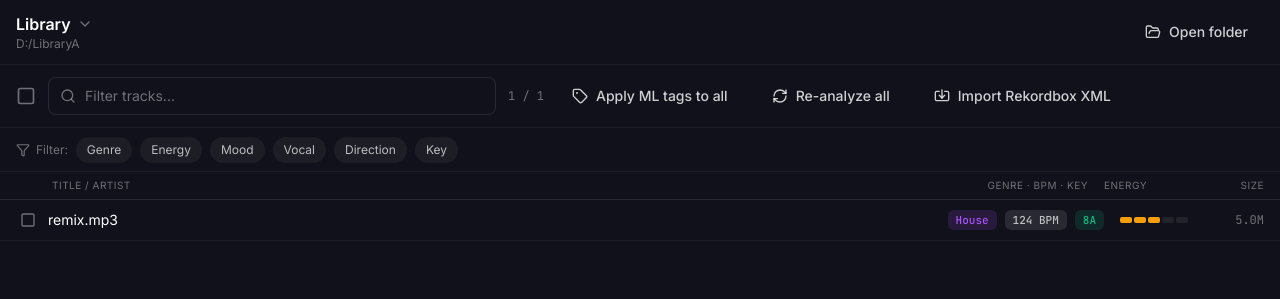
Test: <LibraryBrowser /> — retryable load-recent failure › attaches a retryAction on a retryable failure; invoking it re-issues the load and populates tracks
The width and height of the screenshot is (1280, 299).
Click the button "Library": {"x": 54, "y": 24} [16,12,93,36]
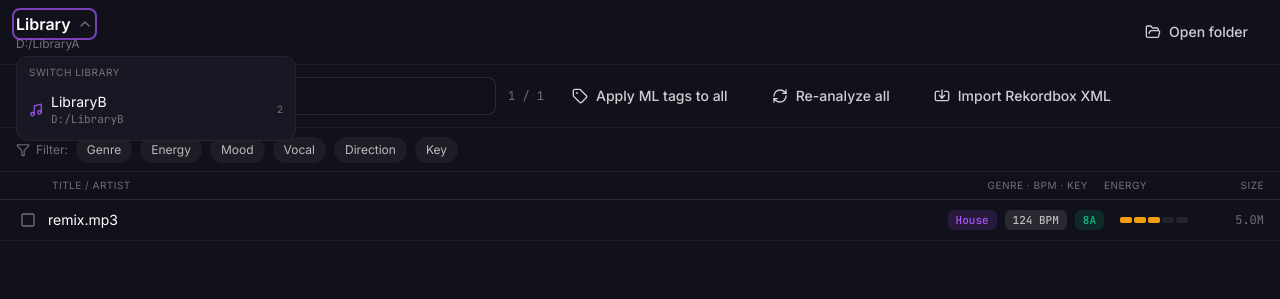
Click the option "LibraryB D:/LibraryB 2": {"x": 79, "y": 102} [21,84,291,136]
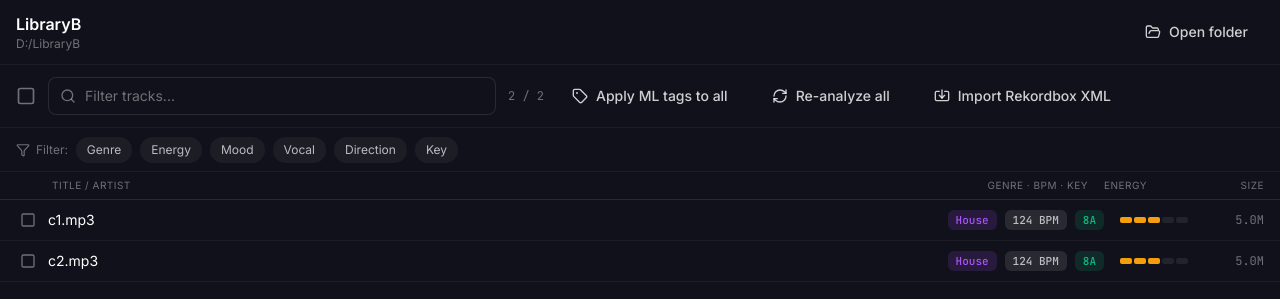
Expected: the text "D:/LibraryB" is shown, [16,36,80,51]
